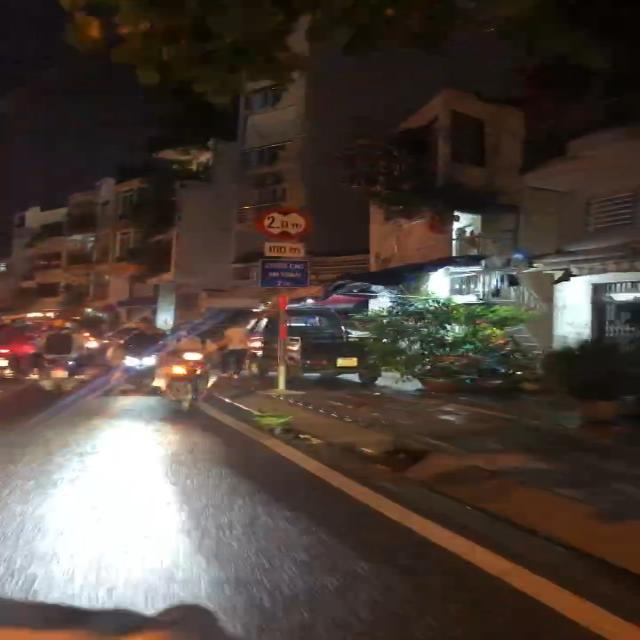Bien bao han che chieu cao: (253, 205, 320, 241)
